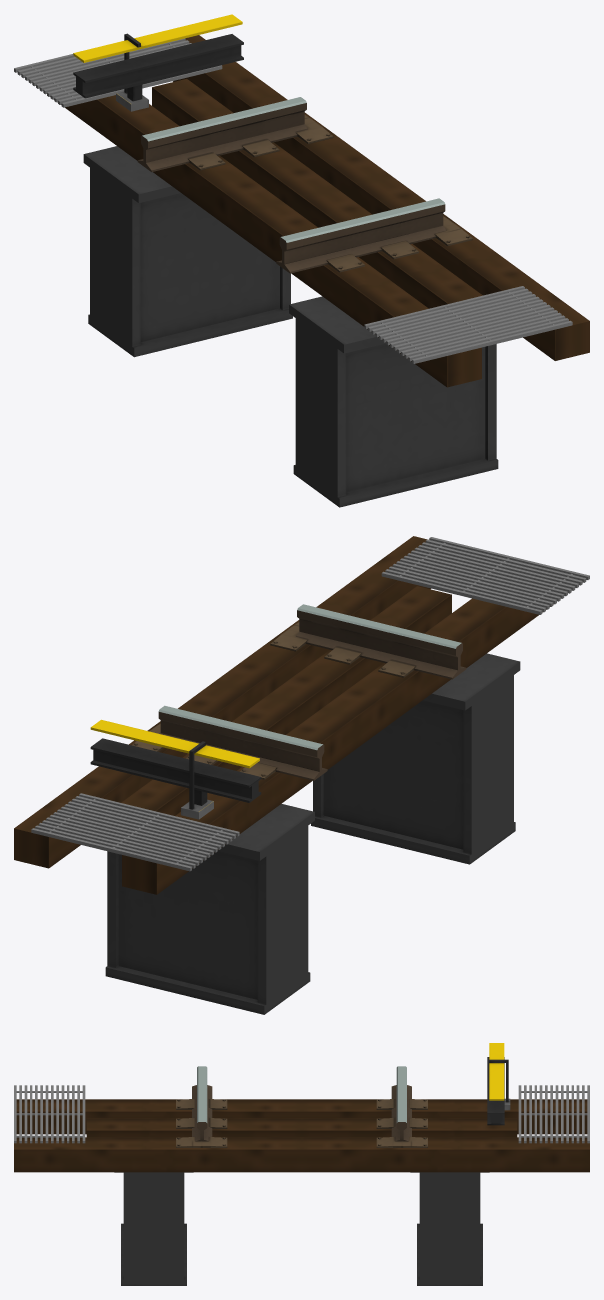
Rendered from spsf_nyc_bridge1_left.obj.
The picture shows the model from 3 angles, top to bottom: view 1: azimuth 30°, elevation 25°; view 2: azimuth 150°, elevation 25°; view 3: azimuth 270°, elevation 25°; orthographic projection. The views are drawn at different scales.
Visible parts, largest first — view 1: RAIL_BASE.004_Cube, RAIL_BASE.003_RAIL_BASE.006, RAIL_BASE_Cube.007, RAIL_BASE.002_Cube.004, RAIL_LEFT_Cube.002, RAIL_RIGHT_Cube.010, RAIL_BASE.005_Cube.003; view 2: RAIL_BASE.004_Cube, RAIL_BASE.003_RAIL_BASE.006, RAIL_BASE_Cube.007, RAIL_BASE.002_Cube.004, RAIL_LEFT_Cube.002, RAIL_RIGHT_Cube.010, RAIL_BASE.005_Cube.003; view 3: RAIL_BASE.003_RAIL_BASE.006, RAIL_BASE.004_Cube, RAIL_BASE_Cube.007, RAIL_BASE.005_Cube.003, RAIL_BASE.002_Cube.004, RAIL_LEFT_Cube.002, RAIL_RIGHT_Cube.010.
Part boxes in pixels (x1,y1,x2,y2): RAIL_BASE.004_Cube: (83,146,498,507); RAIL_BASE.003_RAIL_BASE.006: (50,35,589,387); RAIL_BASE_Cube.007: (14,38,572,363); RAIL_BASE.002_Cube.004: (73,14,243,111); RAIL_LEFT_Cube.002: (276,198,446,273); RAIL_RIGHT_Cube.010: (137,97,307,172); RAIL_BASE.005_Cube.003: (188,115,472,272); RAIL_BASE.004_Cube: (105,653,520,1014); RAIL_BASE.003_RAIL_BASE.006: (14,536,553,894); RAIL_BASE_Cube.007: (31,537,589,871); RAIL_BASE.002_Cube.004: (90,719,261,819); RAIL_LEFT_Cube.002: (296,604,466,679); RAIL_RIGHT_Cube.010: (158,705,327,780); RAIL_BASE.005_Cube.003: (132,622,415,779); RAIL_BASE.003_RAIL_BASE.006: (14,1099,589,1172); RAIL_BASE.004_Cube: (114,1172,489,1285); RAIL_BASE_Cube.007: (14,1085,589,1143); RAIL_BASE.005_Cube.003: (176,1099,427,1147); RAIL_BASE.002_Cube.004: (487,1043,510,1125); RAIL_LEFT_Cube.002: (192,1066,212,1141); RAIL_RIGHT_Cube.010: (391,1066,411,1141).
Size of the model in its own units: 1.11 by 1.58 by 4.36.
1 material, 1 textured.
